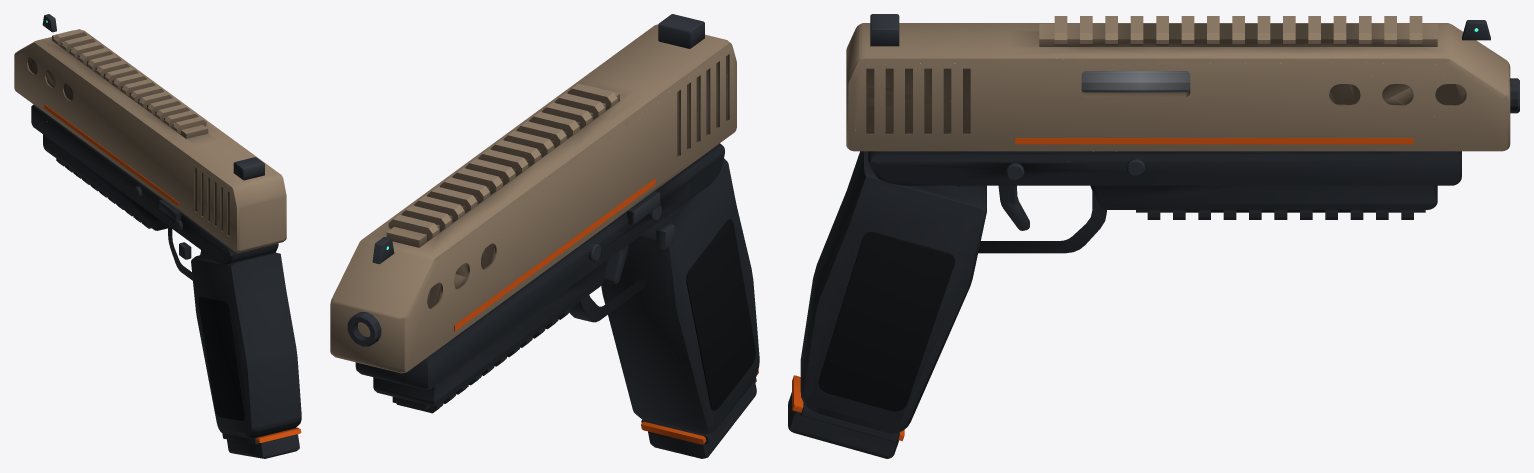
The model's file is desert-eagle.glb.
3 renders of one model, left to right at view 1: azimuth 30°, elevation 25°; view 2: azimuth 150°, elevation 25°; view 3: azimuth 270°, elevation 25°, orthographic. The views are drawn at different scales.
Parts seen in each view (by area): view 1: bolt_frame, body_frame2, body_rubber, mag_frame2, bolt_steel, bolt_accent, body_steel, mag_accent; view 2: bolt_frame, body_frame2, body_rubber, body_steel, bolt_steel, mag_frame2, bolt_accent, mag_accent; view 3: bolt_frame, body_frame2, body_rubber, bolt_accent, bolt_bolt, mag_frame2, body_steel, bolt_steel.
Part boxes in pixels (bbox=[...]): bolt_frame: bbox=[14, 29, 286, 252]; body_frame2: bbox=[31, 104, 301, 444]; body_rubber: bbox=[198, 296, 244, 420]; mag_frame2: bbox=[227, 434, 299, 458]; bolt_steel: bbox=[42, 14, 264, 180]; bolt_accent: bbox=[44, 104, 179, 206]; body_steel: bbox=[134, 186, 205, 259]; mag_accent: bbox=[222, 428, 301, 442]; bolt_frame: bbox=[330, 24, 736, 373]; body_frame2: bbox=[355, 143, 759, 443]; body_rubber: bbox=[686, 219, 755, 410]; body_steel: bbox=[347, 191, 674, 346]; bolt_steel: bbox=[372, 14, 704, 263]; mag_frame2: bbox=[648, 383, 756, 458]; bolt_accent: bbox=[454, 178, 655, 331]; mag_accent: bbox=[641, 370, 758, 444]; bolt_frame: bbox=[846, 16, 1510, 151]; body_frame2: bbox=[800, 151, 1461, 442]; body_rubber: bbox=[818, 232, 954, 411]; bolt_accent: bbox=[1015, 138, 1413, 144]; bolt_bolt: bbox=[1081, 64, 1190, 92]; mag_frame2: bbox=[788, 392, 898, 458]; body_steel: bbox=[998, 78, 1519, 230]; bolt_steel: bbox=[870, 14, 1490, 46].
Bounding box in the file's own units: 0.0415 × 0.1947 × 0.303.
